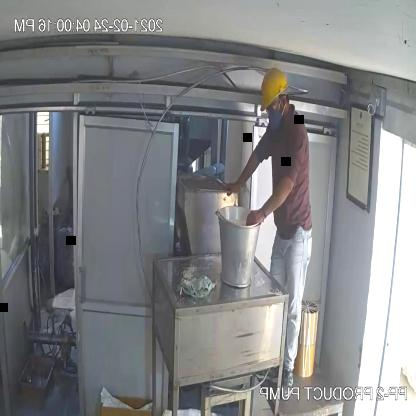helmet: (256, 64, 290, 118)
